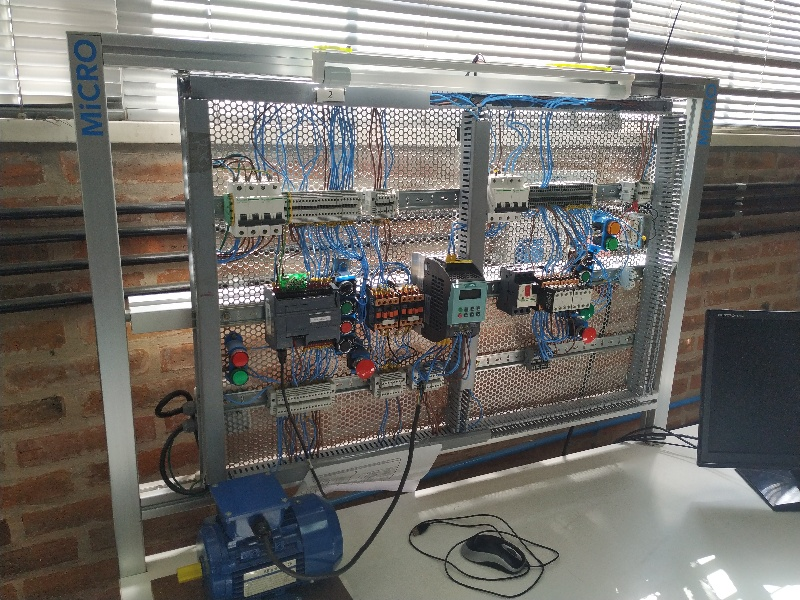Tablero 2: (172, 71, 667, 476)
